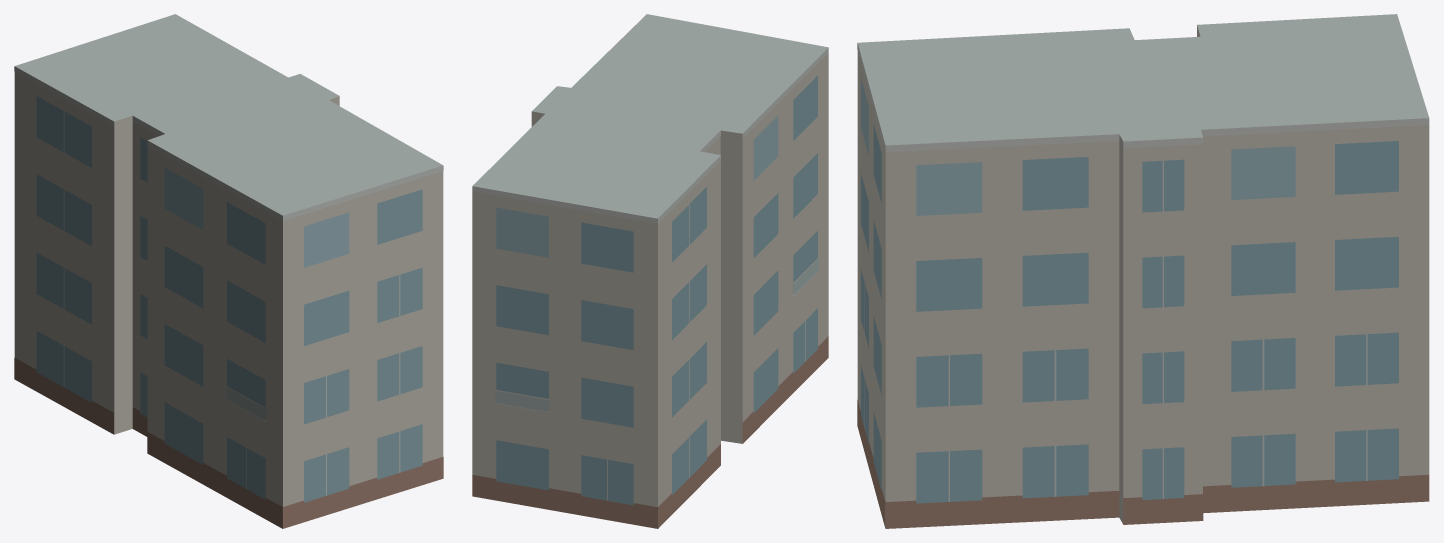
Rendered from survey-upis-32708407.glb.
The picture shows the model from 3 angles, left to right: view 1: azimuth 30°, elevation 25°; view 2: azimuth 150°, elevation 25°; view 3: azimuth 270°, elevation 25°; orthographic projection. The views are drawn at different scales.
Parts seen in each view (by area): view 1: survey-upis-32708407.tmp; view 2: survey-upis-32708407.tmp; view 3: survey-upis-32708407.tmp.
Boxes of the visible parts, x1,y1,x2,y2 form: survey-upis-32708407.tmp: (14, 14, 443, 528); survey-upis-32708407.tmp: (472, 14, 828, 528); survey-upis-32708407.tmp: (857, 14, 1429, 528).
Size of the model in its own units: 10.23 by 13.9 by 18.8.
